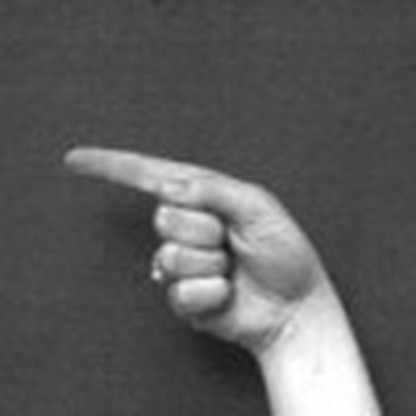g: (60, 140, 327, 346)
